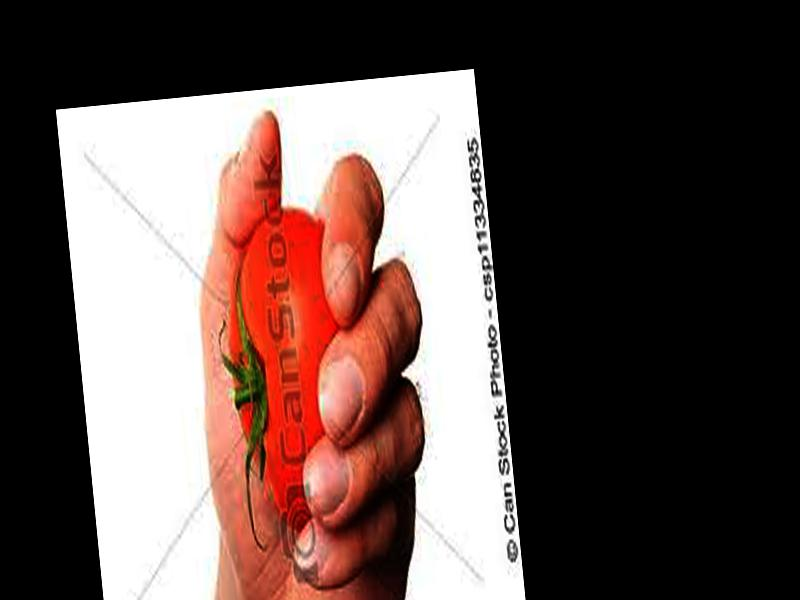Tomato: (219, 205, 355, 533)
